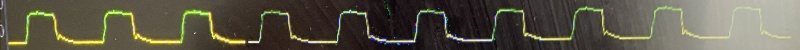normal_pressure: (0, 0, 795, 50)
